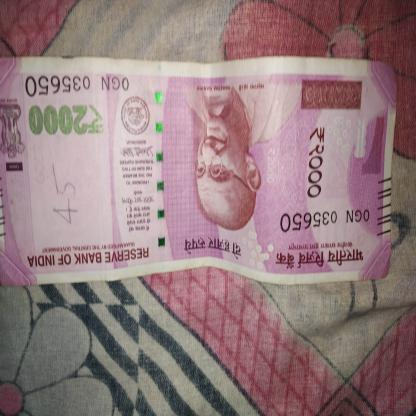New2000Front: (0, 62, 391, 272)
